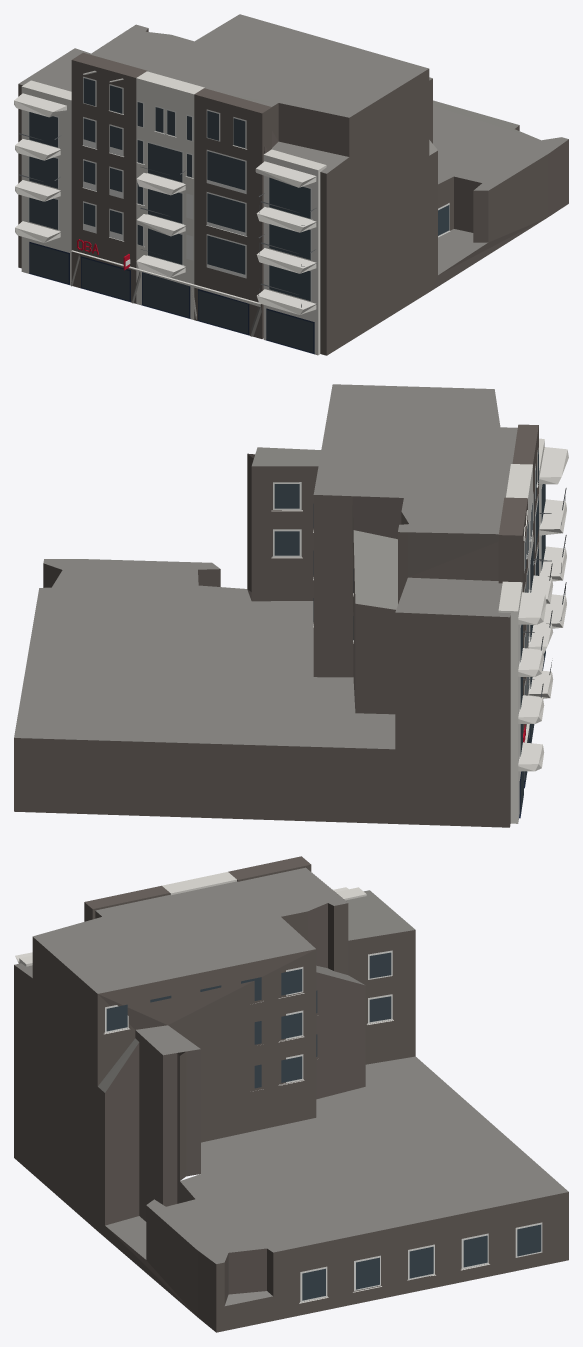
File: oba-spaarndammerbuurt.lod1.glb
3 renders of one model, top to bottom at view 1: azimuth 30°, elevation 25°; view 2: azimuth 150°, elevation 25°; view 3: azimuth 270°, elevation 25°, orthographic. The views are drawn at different scales.
Parts seen in each view (by area): view 1: oba-spaarndammerbuurt; view 2: oba-spaarndammerbuurt; view 3: oba-spaarndammerbuurt.
Boxes of the visible parts, x1,y1,x2,y2 form: oba-spaarndammerbuurt: [14, 14, 568, 355]; oba-spaarndammerbuurt: [14, 384, 568, 827]; oba-spaarndammerbuurt: [14, 856, 568, 1332].
Size of the model in its own units: 36.42 by 15.91 by 33.4.
